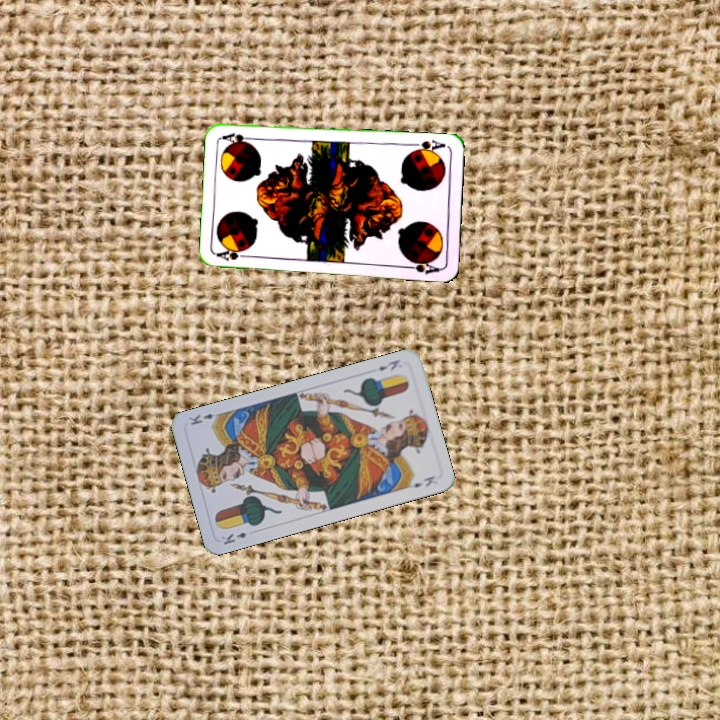EK: (217, 528, 250, 547), (374, 355, 402, 373)
SA: (408, 136, 447, 156), (213, 246, 254, 263)
